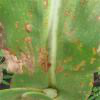Corn leaf blight: (2, 1, 99, 92)
